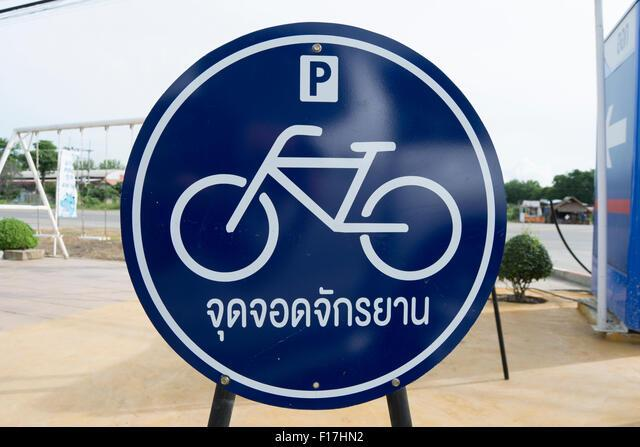Parking Lot Cycle: (160, 32, 483, 365)
